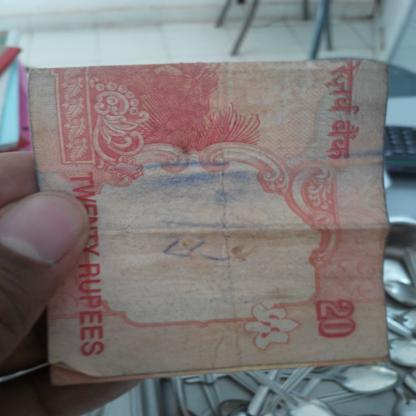Old20Back: (30, 69, 381, 358)
